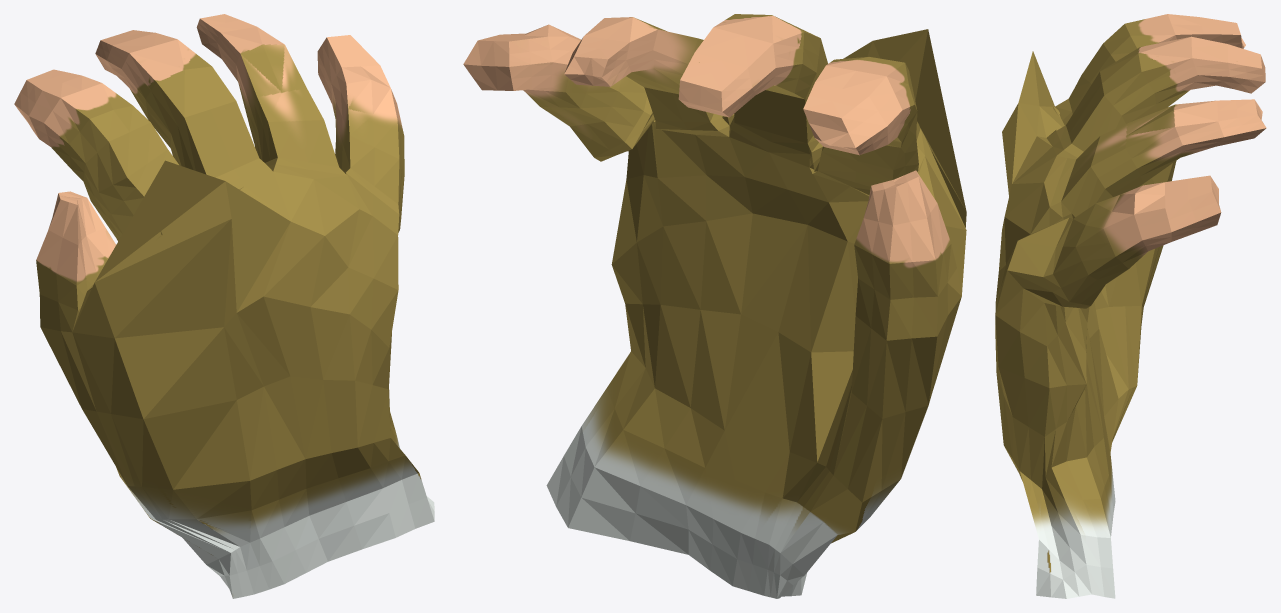
The model's file is grip0036.obj.
The picture shows the model from 3 angles, left to right: view 1: azimuth 30°, elevation 25°; view 2: azimuth 150°, elevation 25°; view 3: azimuth 270°, elevation 25°; orthographic projection. The views are drawn at different scales.
Visible parts, largest first — view 1: Hand; view 2: Hand; view 3: Hand.
Boxes of the visible parts, x1,y1,x2,y2 form: Hand: (14, 14, 434, 598); Hand: (463, 14, 966, 598); Hand: (995, 14, 1266, 598).
Size of the model in its own units: 2.9 by 3.92 by 1.95.
